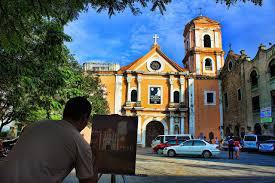san_agustin_church_intramuros_manila: (117, 6, 226, 152)
